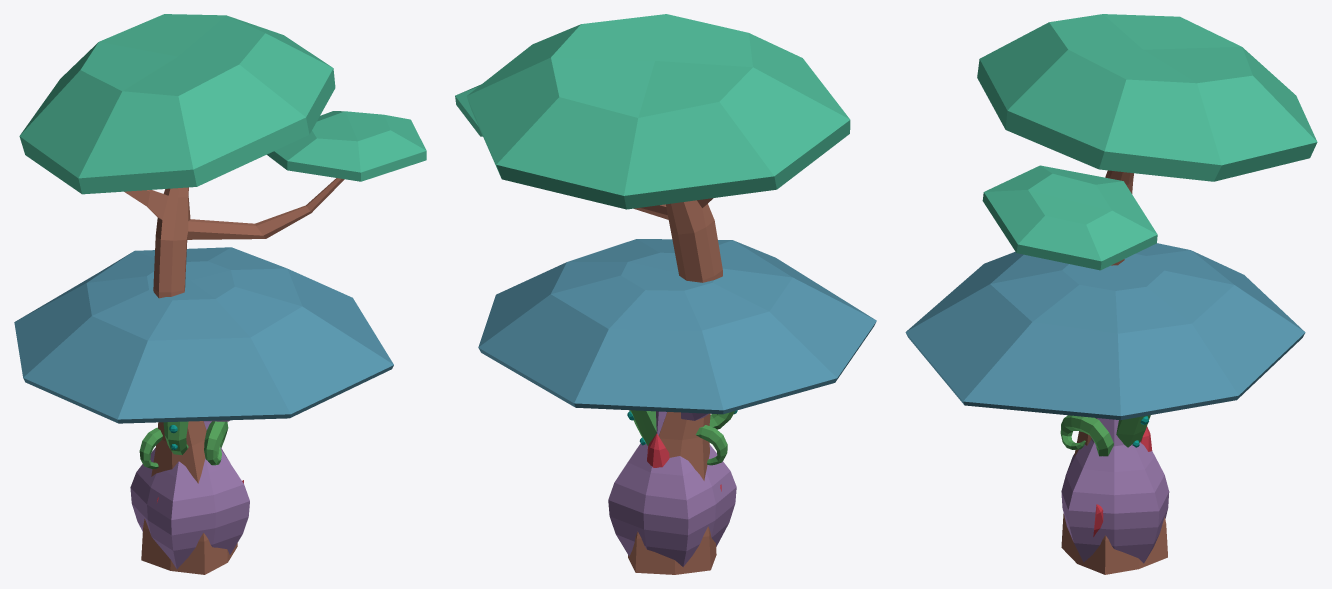
The model's file is Fauna.fbx.
3 renders of one model, left to right at view 1: azimuth 30°, elevation 25°; view 2: azimuth 150°, elevation 25°; view 3: azimuth 270°, elevation 25°, orthographic. The views are drawn at different scales.
Parts seen in each view (by area): view 1: BigMushroom, MediumMushroom, SwirlyTree; view 2: BigMushroom, MediumMushroom, SwirlyTree, LeafGroup; view 3: MediumMushroom, BigMushroom, SwirlyTree.
Part boxes in pixels (x1,y1,x2,y2): BigMushroom: (19, 14, 426, 574); MediumMushroom: (14, 247, 393, 568); SwirlyTree: (139, 421, 228, 468); BigMushroom: (455, 14, 850, 574); MediumMushroom: (478, 239, 876, 566); SwirlyTree: (627, 410, 737, 465); LeafGroup: (647, 433, 721, 491); MediumMushroom: (905, 243, 1305, 563); BigMushroom: (977, 14, 1317, 574); SwirlyTree: (1060, 415, 1150, 456).
Size of the model in its own units: 104 by 132 by 95.08.
